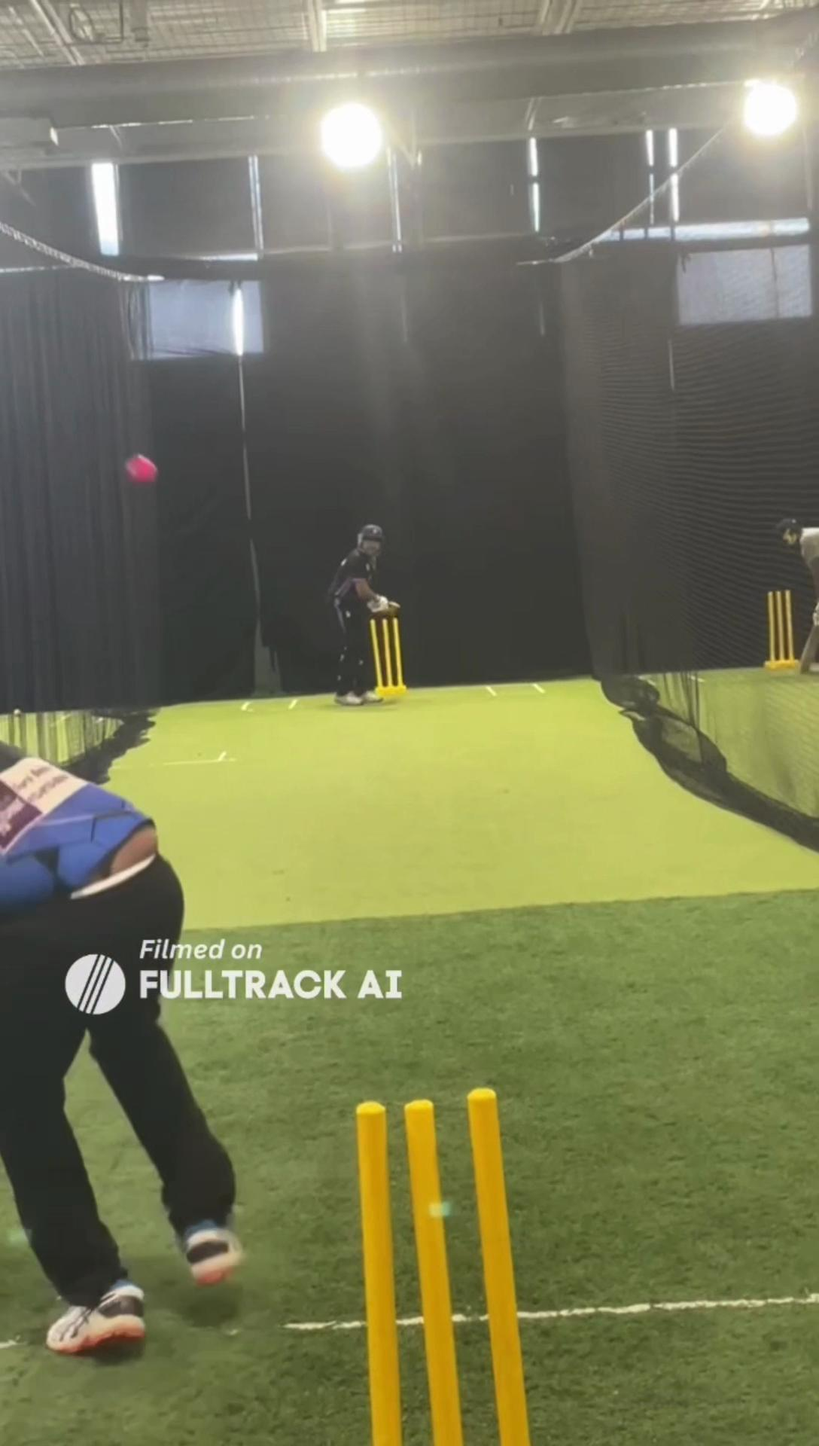ball: (122, 445, 159, 488)
